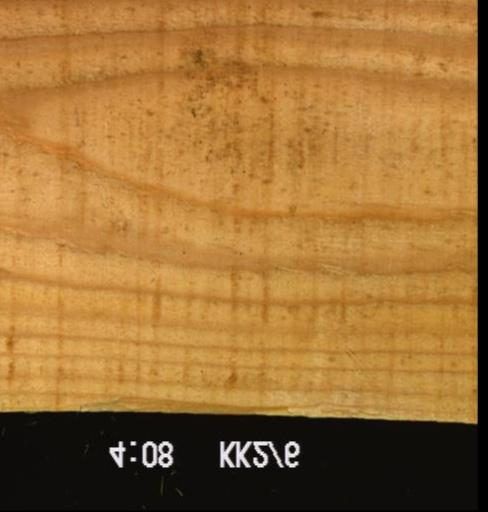wave: (28, 401, 321, 416)
